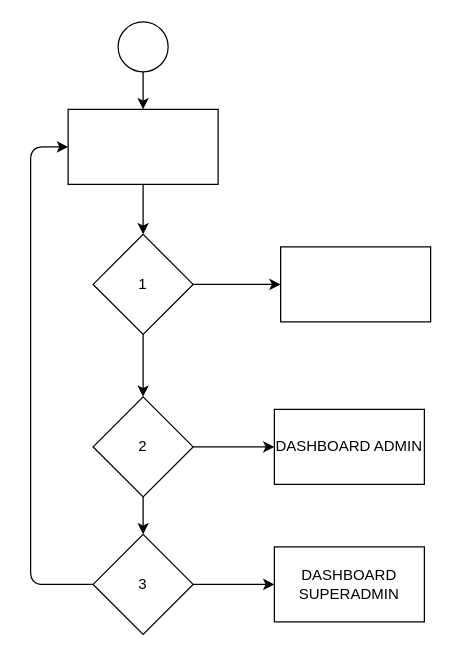
This 453x656 diagram has some shape labels left out. The shapes that lost their labels are listed below. From the top down, each one's box as (x1, y1, x2, y2) in pixels, then its label:
(67, 108, 218, 184): LOGIN
(279, 246, 431, 322): DASHBOARD CUSTOMER
